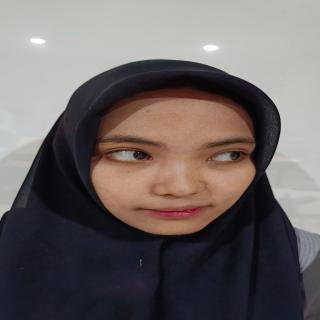Takut: (79, 77, 266, 245)
